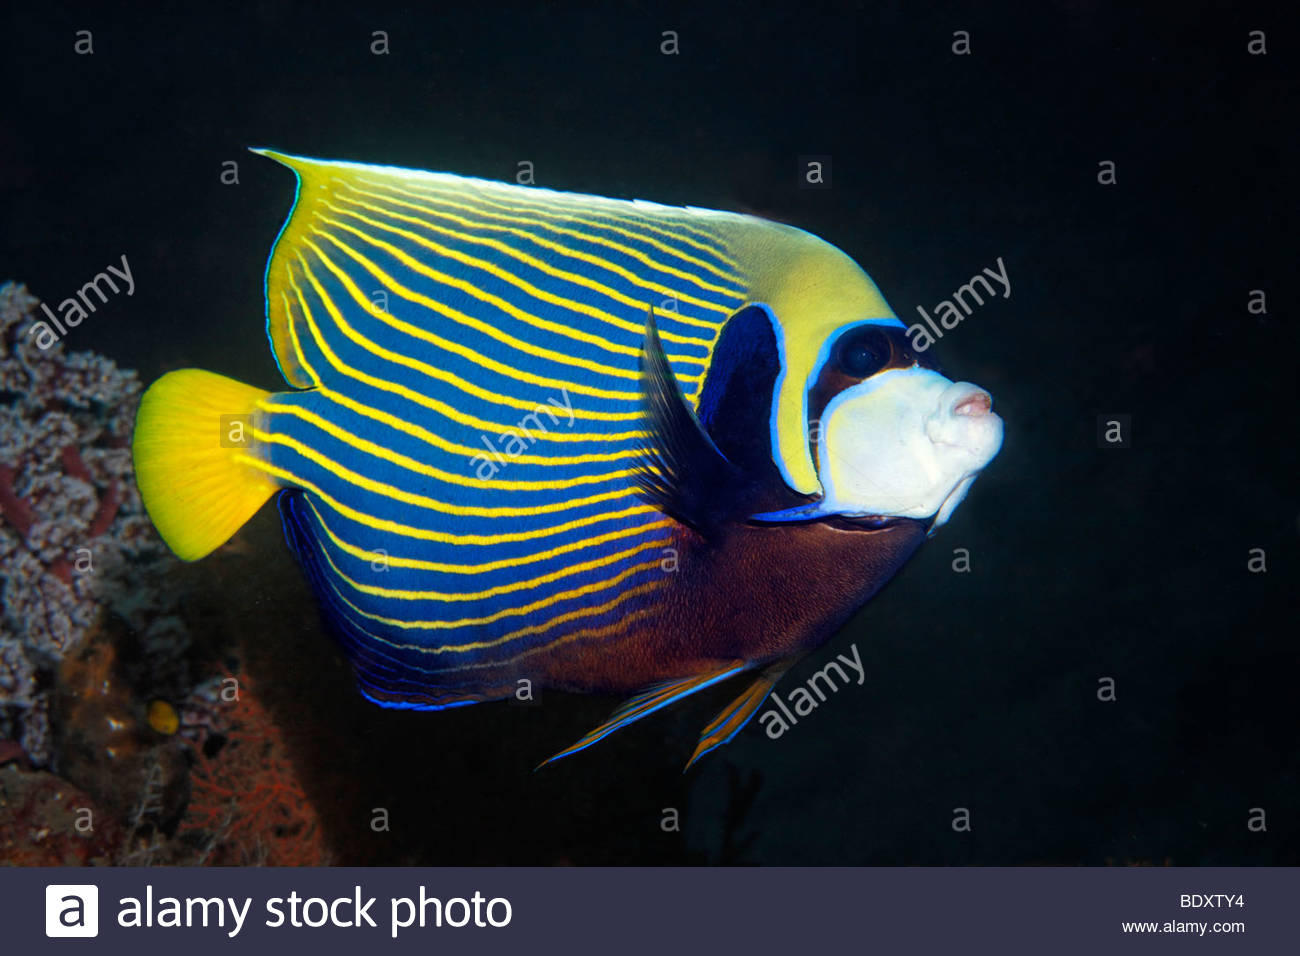Pomacanthus_imperator: (123, 116, 1023, 764)
